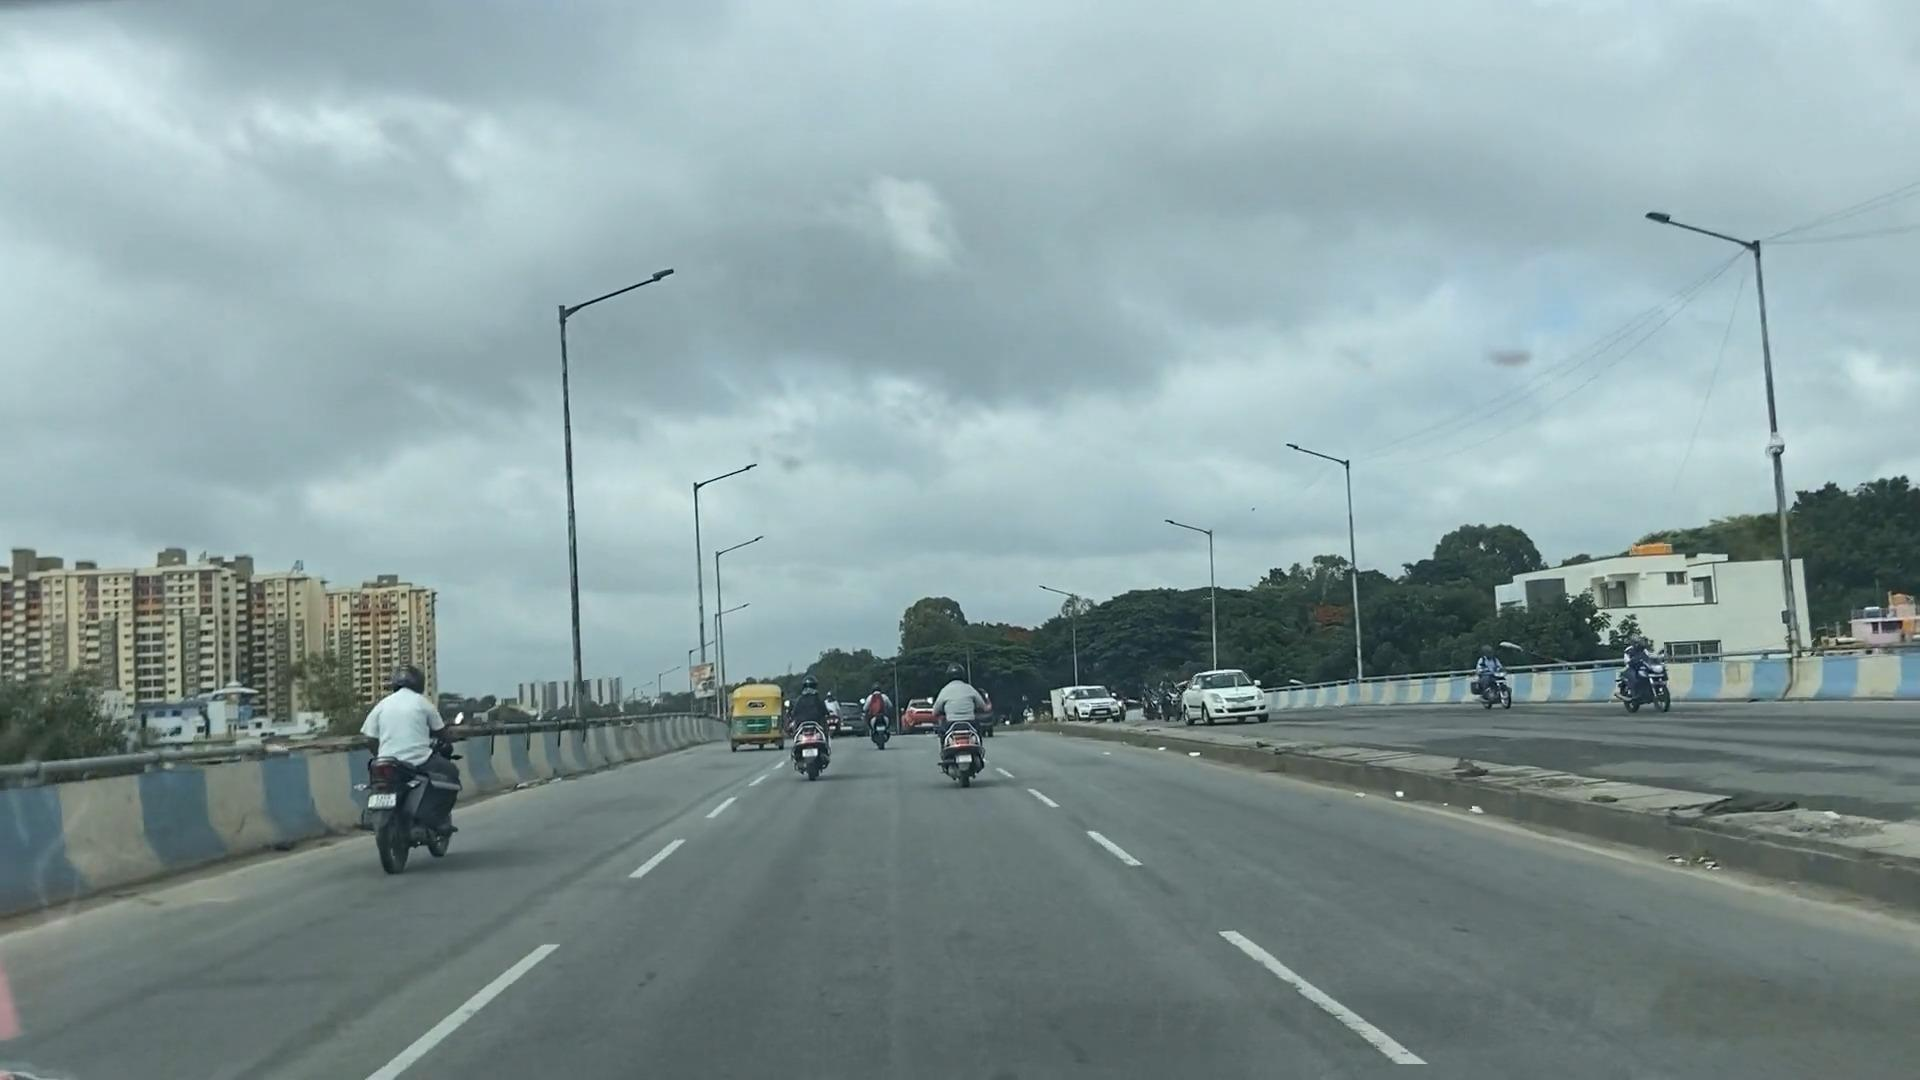LMV: (376, 672, 448, 832), (944, 658, 990, 791), (784, 676, 834, 777), (732, 678, 783, 760), (864, 674, 893, 746)
